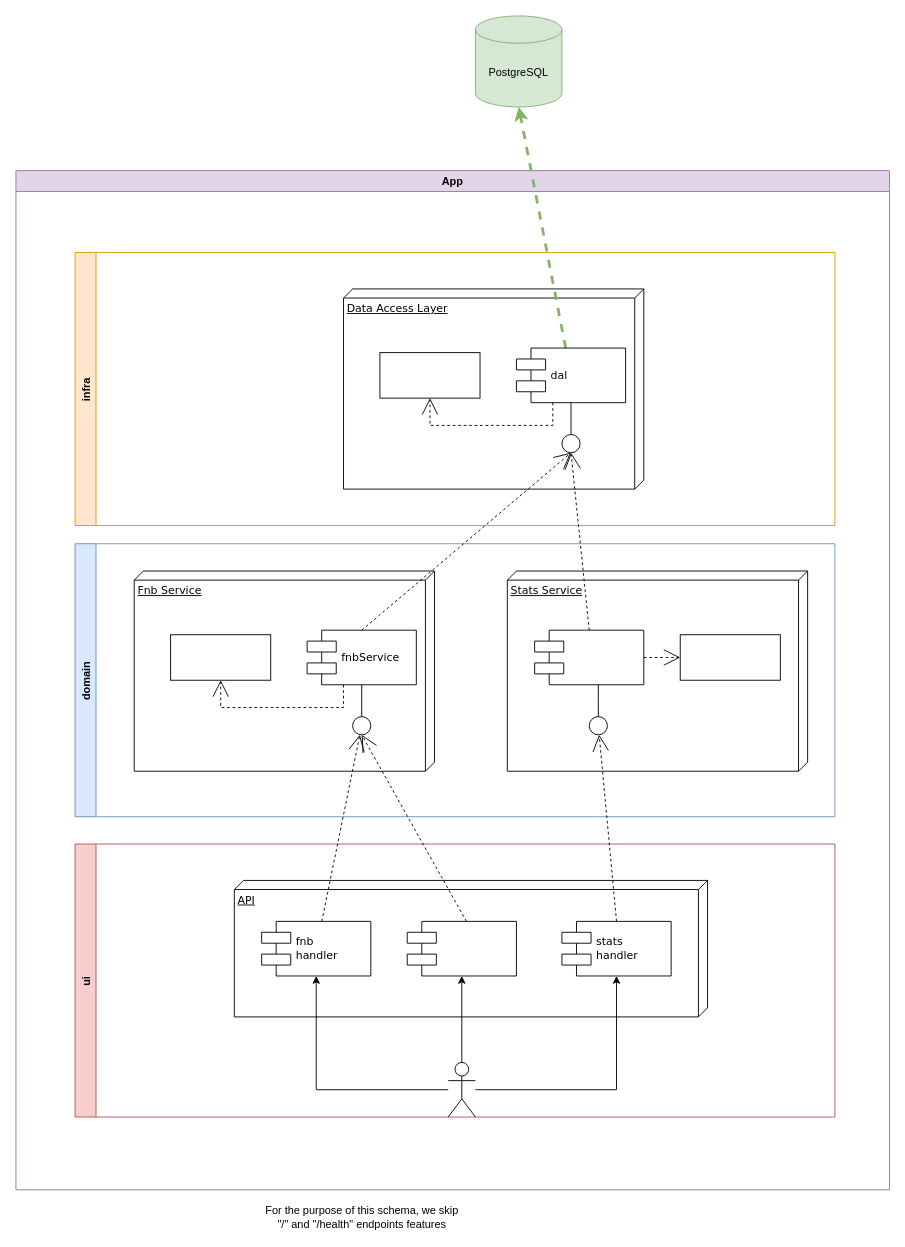
Image size: 905x1247. Some labels were removed from this diagram. Here are the shapes that lost their labels. From the top down, the centre of each, then its label:
At (x=429, y=375): "«interface» IDAL".
At (x=220, y=657): "«interface» IFnbService".
At (x=589, y=657): "statsService".
At (x=729, y=657): "«interface» IStatsService".
At (x=461, y=948): "history handler".
At (x=461, y=1089): "Actor".
